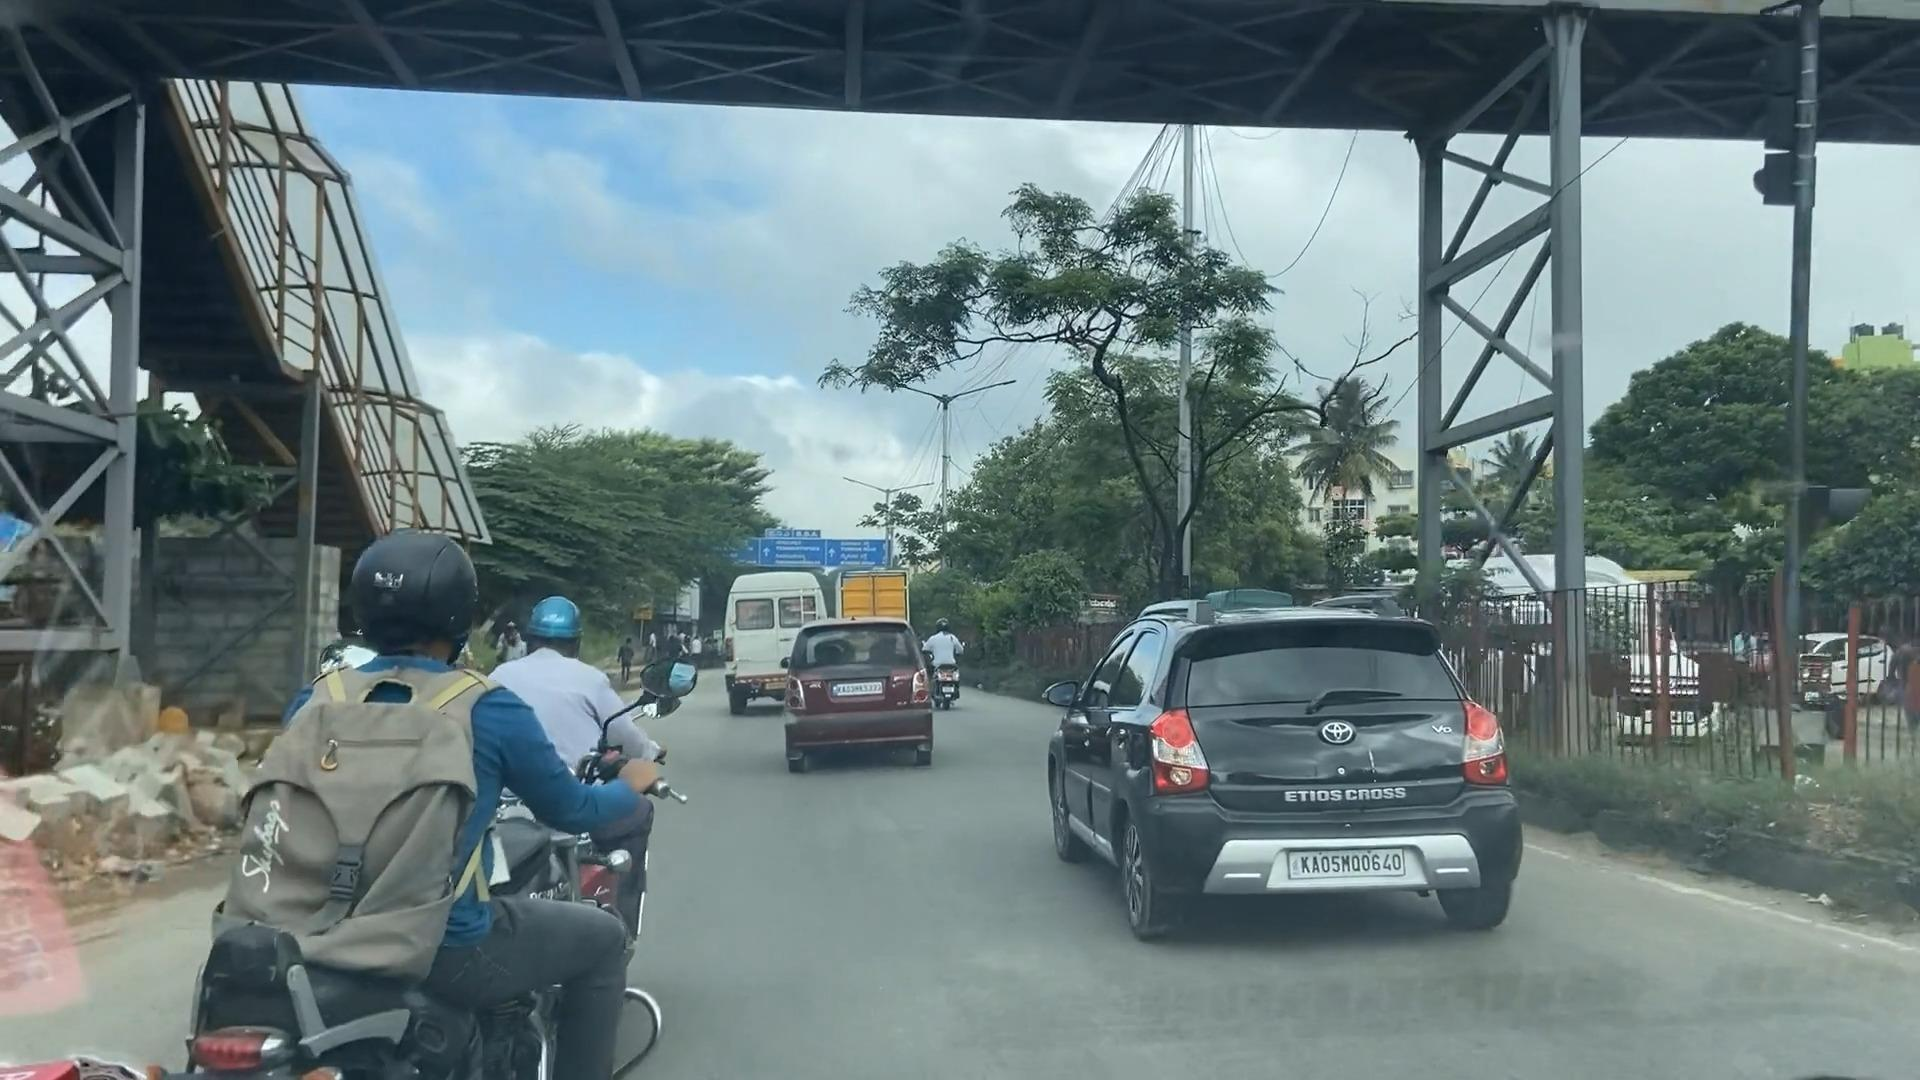LMV: (1036, 596, 1491, 924), (782, 632, 928, 758), (931, 626, 959, 704)
